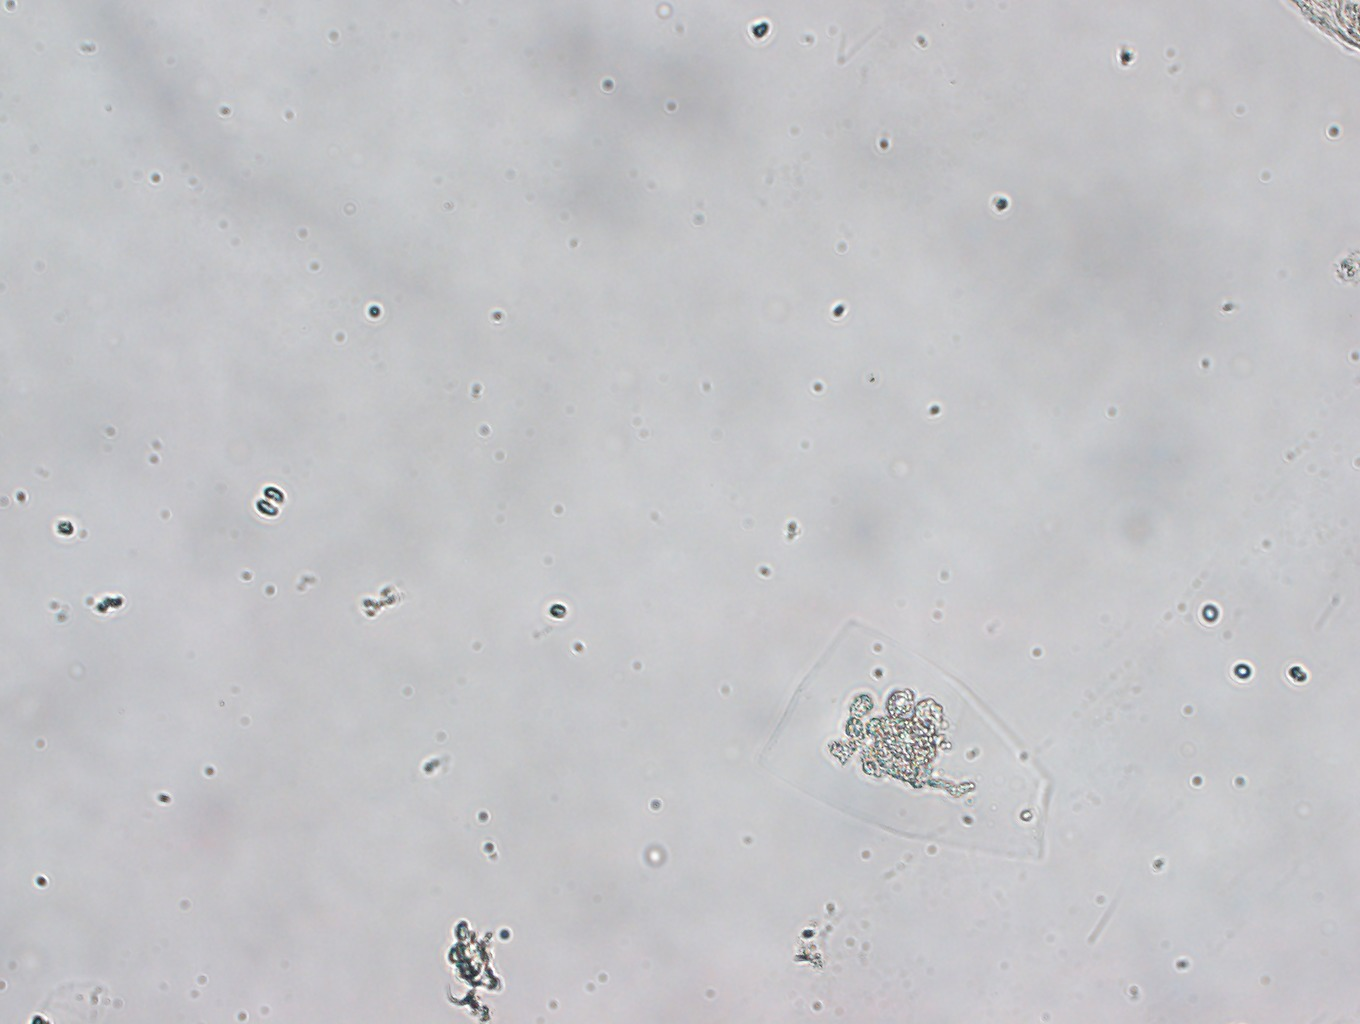helicotheca: (755, 613, 1048, 856)
